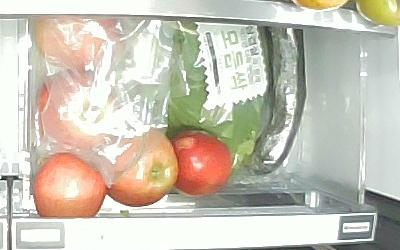apple: (103, 131, 178, 207), (32, 151, 106, 218), (169, 130, 233, 198)
apple_vinyl: (36, 70, 122, 149), (32, 18, 123, 75)
